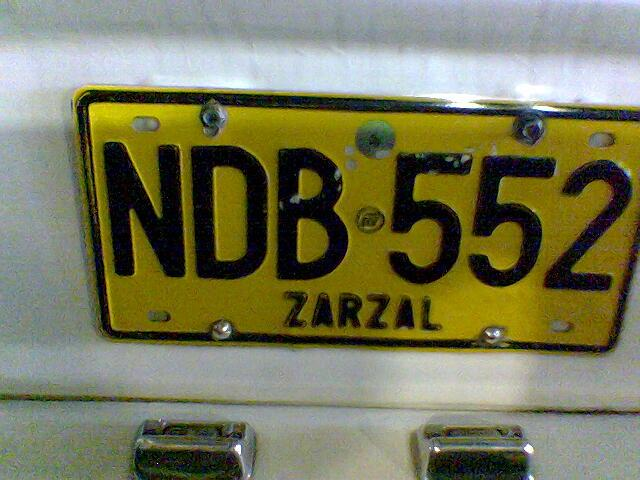placas: (61, 68, 638, 358)
